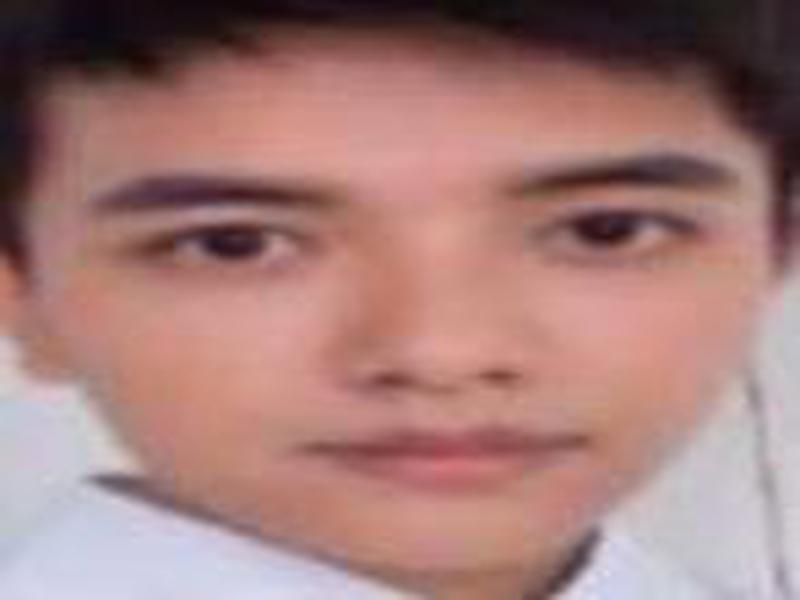without_mask: (29, 38, 776, 570)
